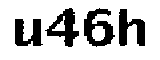4: (47, 5, 80, 48)
6: (82, 5, 115, 51)
h: (117, 5, 148, 50)
u: (9, 14, 45, 49)
